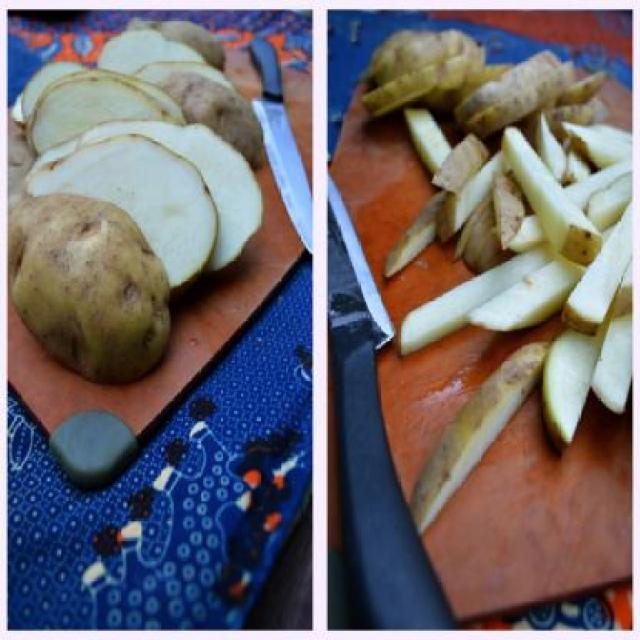Potato: (361, 25, 639, 541), (1, 14, 264, 386)
